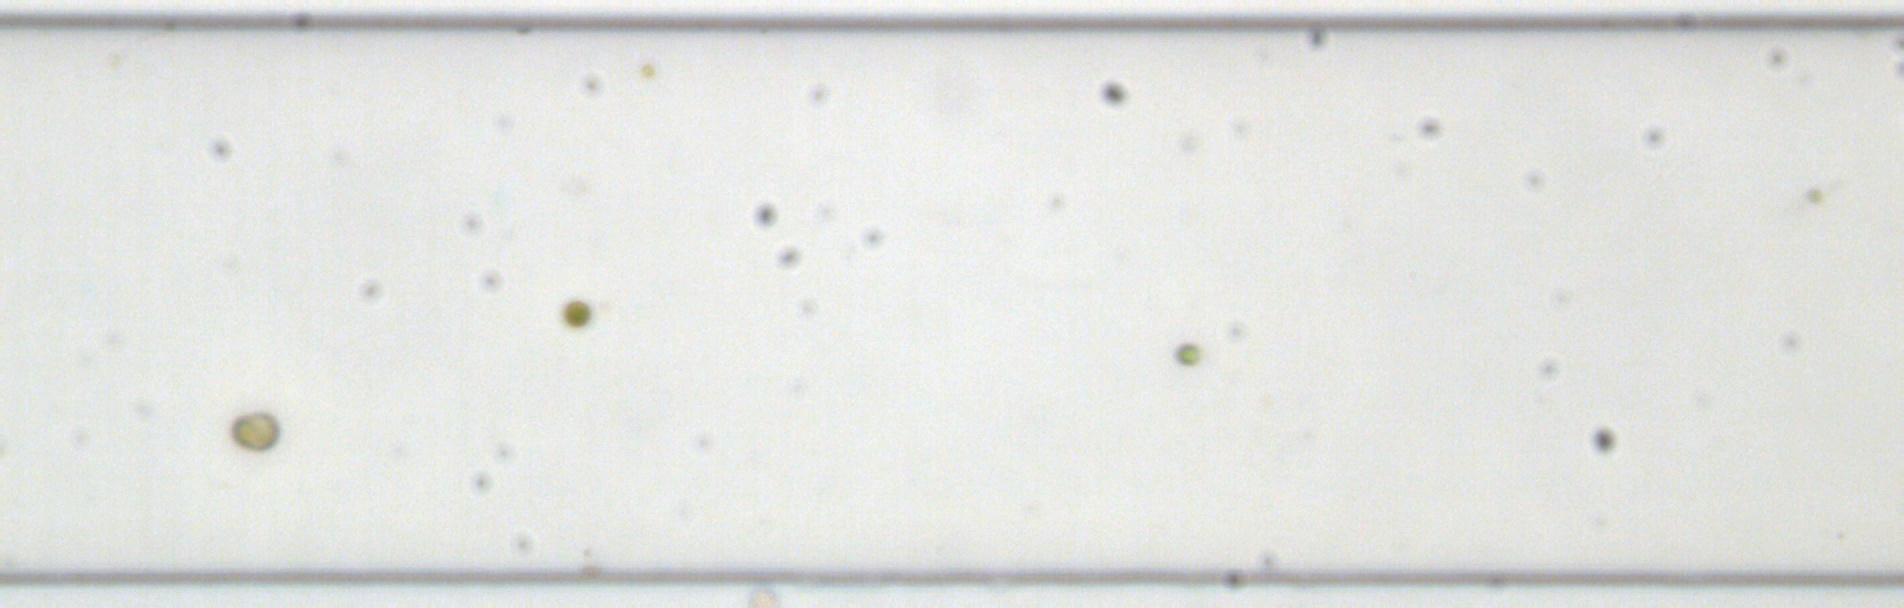Chlorella: (562, 299, 591, 328), (1171, 341, 1203, 366), (1806, 186, 1824, 206), (637, 61, 657, 78)
Effrenium: (229, 408, 282, 453)
